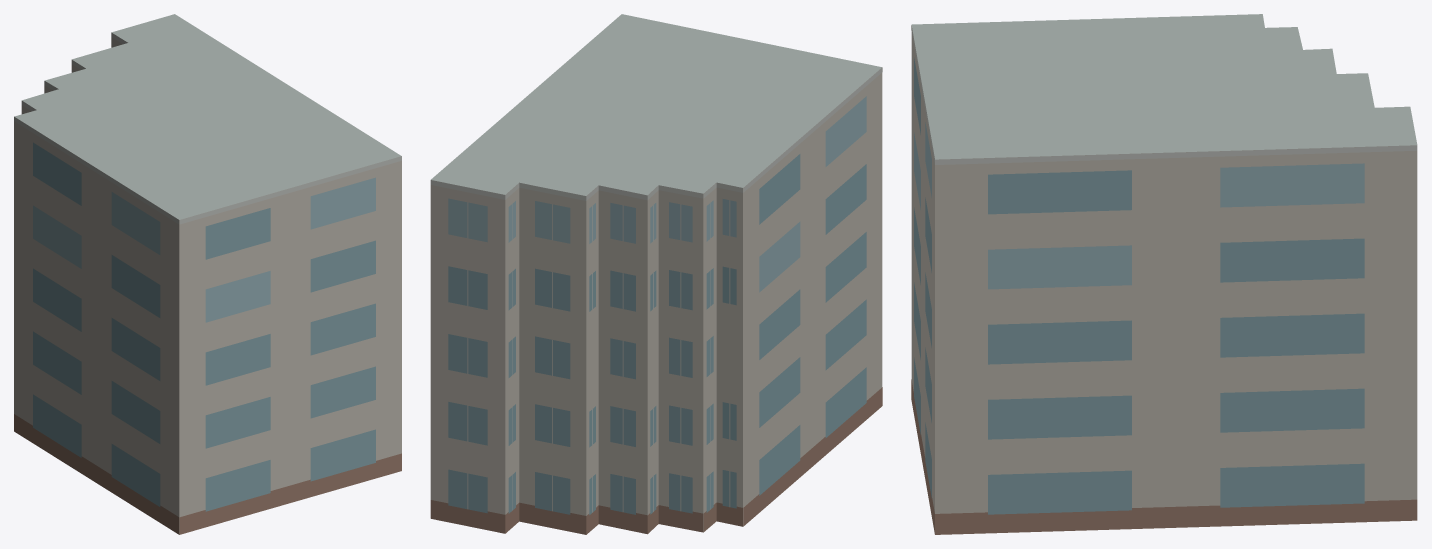
File: survey-upis-32582927.glb
3 renders of one model, left to right at view 1: azimuth 30°, elevation 25°; view 2: azimuth 150°, elevation 25°; view 3: azimuth 270°, elevation 25°, orthographic. The views are drawn at different scales.
Visible parts, largest first — view 1: survey-upis-32582927.tmp; view 2: survey-upis-32582927.tmp; view 3: survey-upis-32582927.tmp.
Boxes of the visible parts, x1,y1,x2,y2 form: survey-upis-32582927.tmp: (14,14,401,534); survey-upis-32582927.tmp: (430,14,882,534); survey-upis-32582927.tmp: (911,14,1417,534).
Size of the model in its own units: 13.82 by 16.6 by 20.29.
